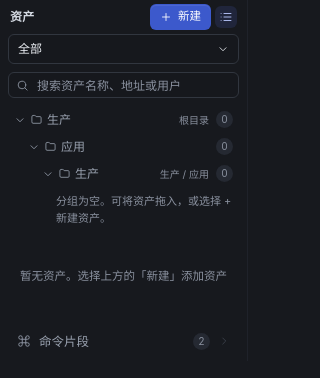
Scenario: asset group controls › renders parent, child, and grandchild groups at their actual tree levels
Expected: the number of list items is 3, x1=6 y1=106 x2=241 y2=233; x1=20 y1=133 x2=241 y2=233; x1=34 y1=160 x2=241 y2=233
Expected: the 2nd text titled "生产 / 应用 / 生产" is shown, x1=75 y1=166 x2=99 y2=180
Click the button "生产 根目录": point(112, 120) x1=14 y1=112 x2=209 y2=128
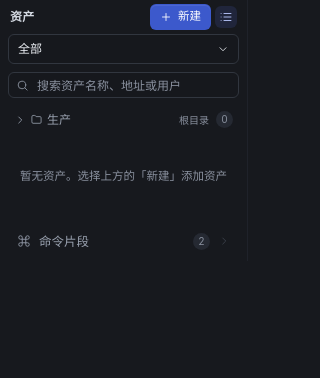
Expected: the number of list items is 1, x1=6 y1=106 x2=241 y2=133
